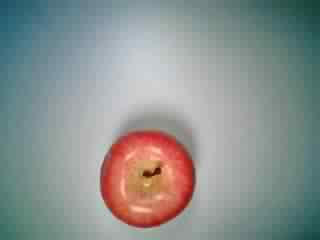apple: (97, 127, 201, 228)
